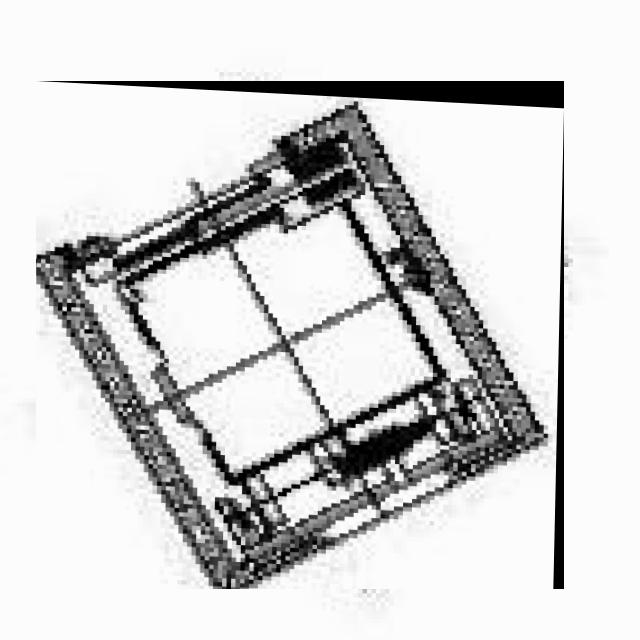lift: (36, 81, 564, 589)
